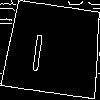I: (28, 24, 48, 72)
